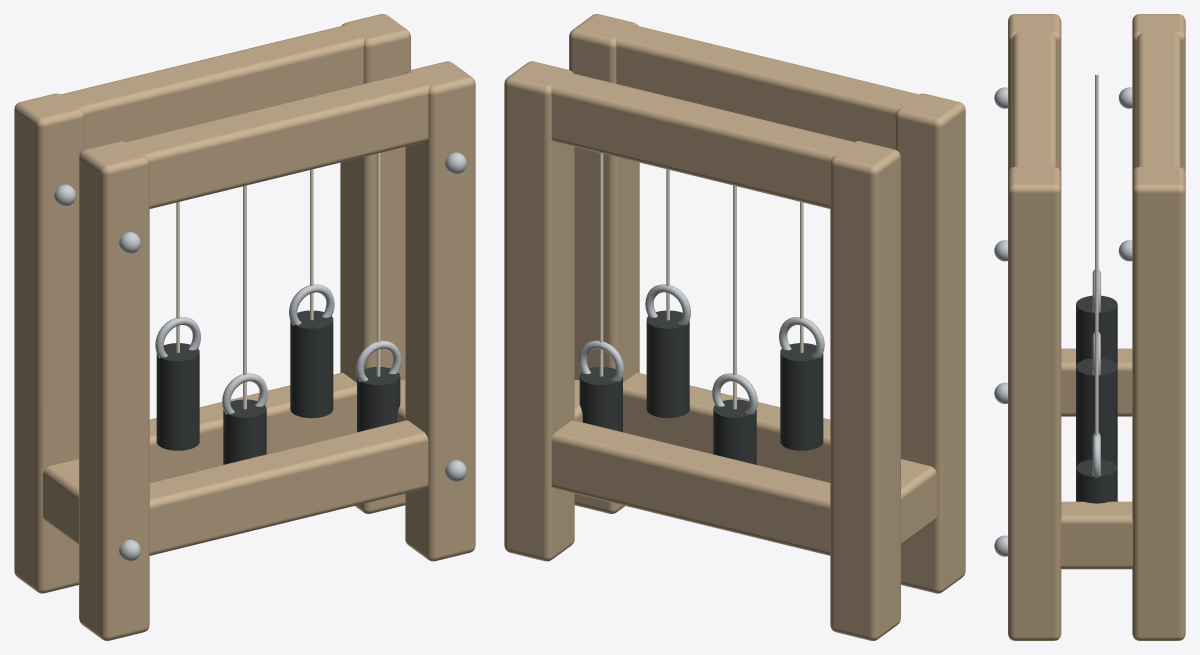
Rendered from textile-weaving-and-dye-workshop-tension-weight-rack-7a63773c__29550.glb.
3 renders of one model, left to right at view 1: azimuth 30°, elevation 25°; view 2: azimuth 150°, elevation 25°; view 3: azimuth 270°, elevation 25°, orthographic. The views are drawn at different scales.
Parts seen in each view (by area): view 1: tension-weight-rack; view 2: tension-weight-rack; view 3: tension-weight-rack.
Part boxes in pixels (box(x1,y1,x2,y2)): tension-weight-rack: box(14, 14, 475, 640); tension-weight-rack: box(504, 14, 965, 640); tension-weight-rack: box(994, 14, 1185, 640).
Bounding box in the file's own units: 0.7001 × 0.85 × 0.323.
